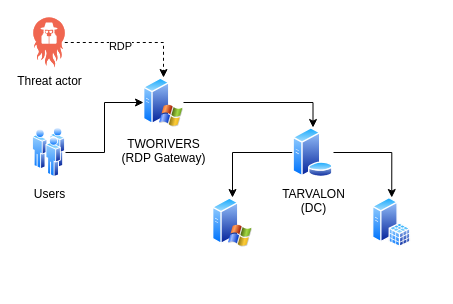
This 453x304 diagram has some shape labels left out. Here are the shapes that lost their labels. From the top down, the centre of each, then its label:
At point 232,222: "DRAGONMOUNT (File server)".
At point 391,222: "THESTEDDING (ELK server)".
